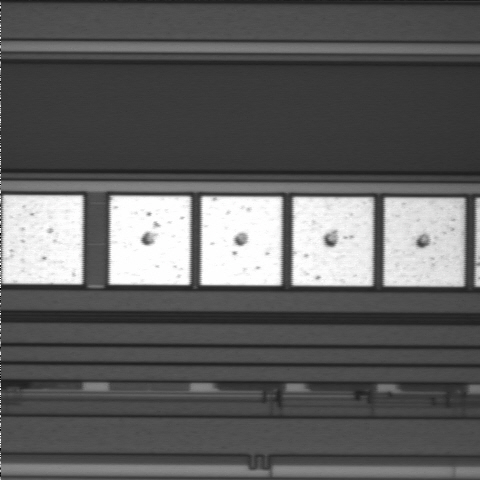pad: (109, 196, 191, 285), (2, 195, 83, 284), (201, 196, 282, 285), (292, 197, 373, 286), (384, 198, 464, 286)
